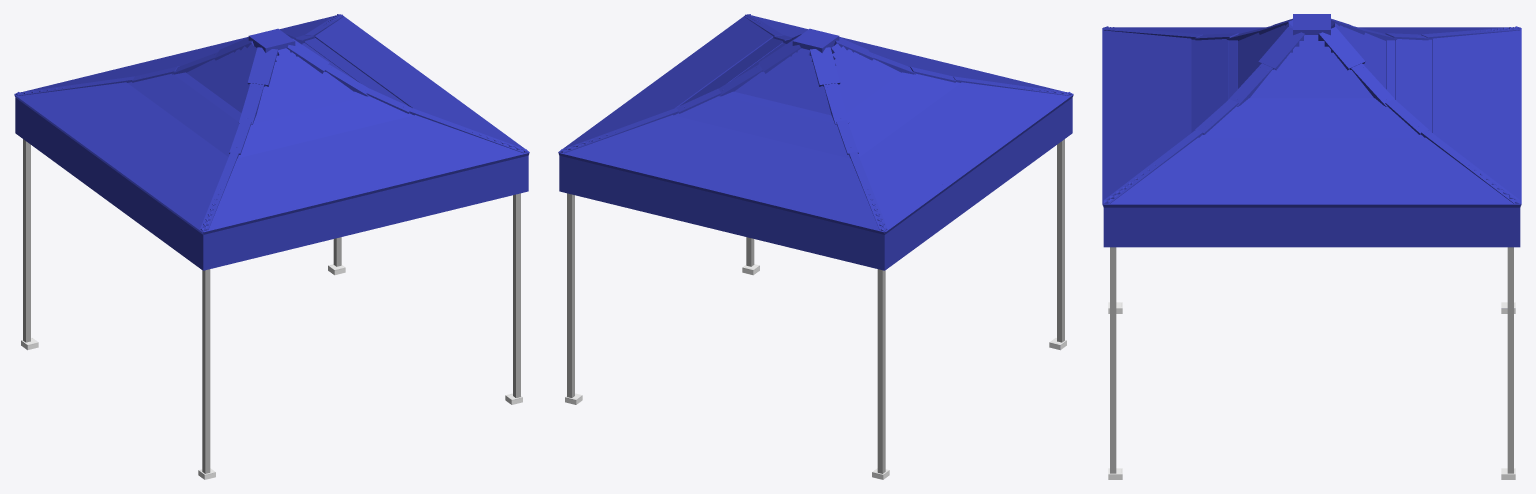
File: tent_blue.obj
The picture shows the model from 3 angles, left to right: view 1: azimuth 30°, elevation 25°; view 2: azimuth 150°, elevation 25°; view 3: azimuth 270°, elevation 25°; orthographic projection. The views are drawn at different scales.
Parts seen in each view (by area): view 1: text3, text2, cube1.004, stem3, cube1.005, stem4, stem1, cube2.004, cube3.004, cube4.004, cube5.000, cube6.000 (+48 smaller); view 2: text1, text2, cube1.003, stem1, cube1.005, stem2, stem3, cube2.003, cube3.003, cube4.003, cube5, cube6 (+48 smaller); view 3: text0, cube1.006, cube2.006, cube3.006, cube4.006, cube5.002, cube6.002, cube7.002, cube8.002, stem2, stem4, cube13.002 (+71 smaller).
Part boxes in pixels (x1,y1,x2,y2): text3: (208,157,523,269); text2: (15,98,207,270); cube1.004: (200,149,529,235); stem3: (202,269,210,473); cube1.005: (14,92,206,235); stem4: (513,193,520,397); stem1: (23,139,30,342); cube2.004: (203,146,521,227); cube3.004: (205,144,513,222); cube4.004: (208,141,505,216); cube5.000: (210,139,497,211); cube6.000: (212,136,489,206); text1: (564,157,879,269); text2: (880,98,1072,270); cube1.003: (558,149,886,235); stem1: (877,269,885,473); cube1.005: (881,92,1073,235); stem2: (567,193,574,397); stem3: (1057,139,1064,342); cube2.003: (566,146,884,227); cube3.003: (574,144,882,222); cube4.003: (582,141,879,216); cube5: (590,139,877,211); cube6: (598,136,875,206); text0: (1103,207,1520,247); cube1.006: (1103,200,1520,207); cube2.006: (1110,196,1513,200); cube3.006: (1116,191,1507,195); cube4.006: (1122,187,1501,191); cube5.002: (1129,182,1494,186); cube6.002: (1135,178,1488,182); cube7.002: (1141,173,1482,177); cube8.002: (1148,169,1475,173); stem2: (1507,247,1513,473); stem4: (1110,247,1116,473); cube13.002: (1180,146,1443,151).
Size of the model in its own units: 3.74 by 3.66 by 3.74.
